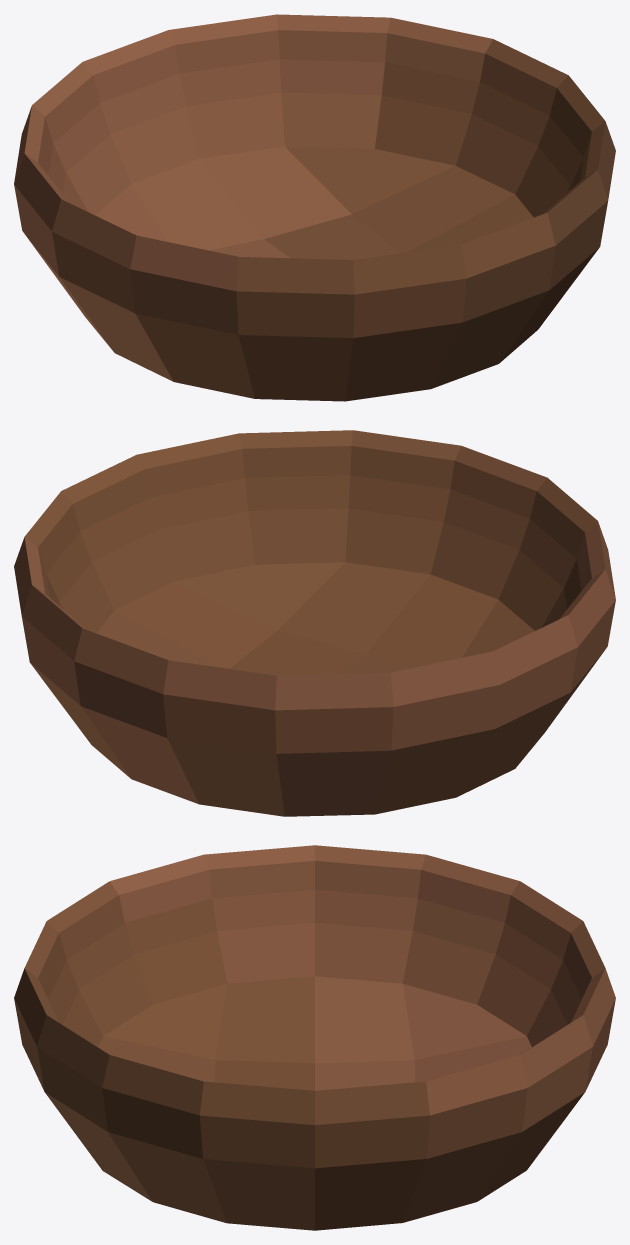
Rendered from fixed_bowl.glb.
3 views of the same model, one above another, from view 1: azimuth 30°, elevation 25°; view 2: azimuth 150°, elevation 25°; view 3: azimuth 270°, elevation 25° (orthographic).
Visible parts, largest first — view 1: Bow; view 2: Bow; view 3: Bow.
Boxes of the visible parts, <box> form: Bow: <box>14,14,615,401</box>; Bow: <box>14,430,615,816</box>; Bow: <box>14,845,615,1230</box>.
Bounding box in the file's own units: 0.25 × 0.0759 × 0.25.
